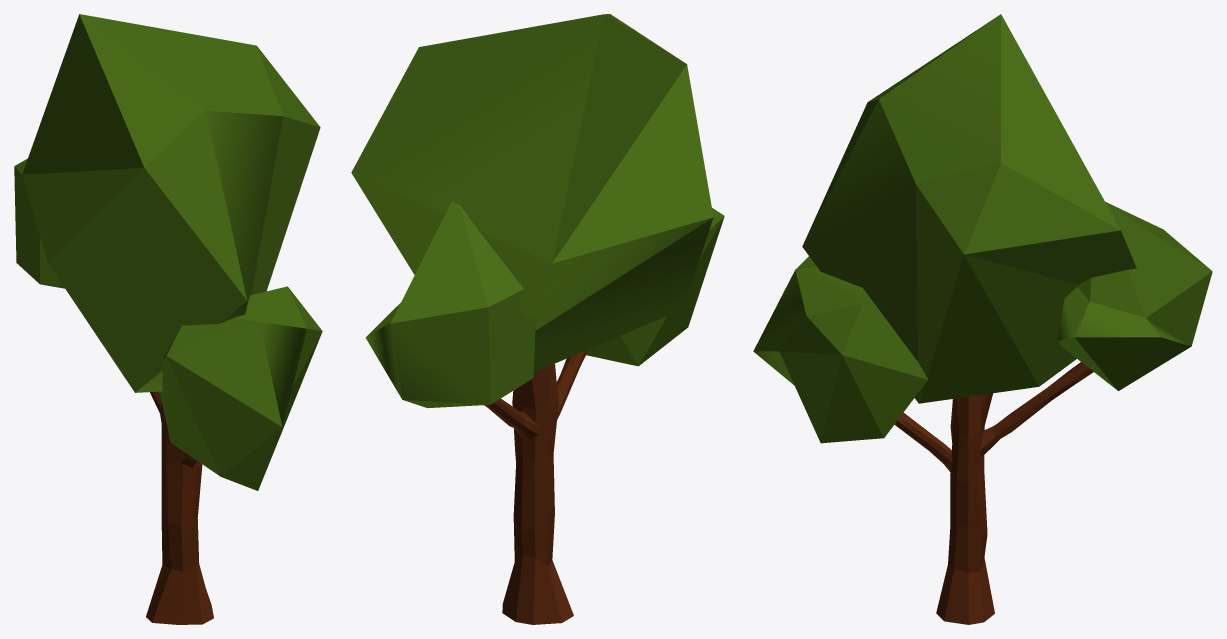
File: tree.FBX
3 views of the same model, side by side, from view 1: azimuth 30°, elevation 25°; view 2: azimuth 150°, elevation 25°; view 3: azimuth 270°, elevation 25° (orthographic). The views are drawn at different scales.
Visible parts, largest first — view 1: Arbre; view 2: Arbre; view 3: Arbre.
Boxes of the visible parts, left/top/right/bottom form: Arbre: left=14, top=14, right=322, bottom=624; Arbre: left=351, top=14, right=724, bottom=624; Arbre: left=753, top=14, right=1212, bottom=624.
Size of the model in its own units: 334 by 669 by 497.
